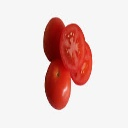tomato: (45, 61, 71, 108), (61, 23, 85, 69), (71, 36, 92, 86), (43, 18, 65, 61)
